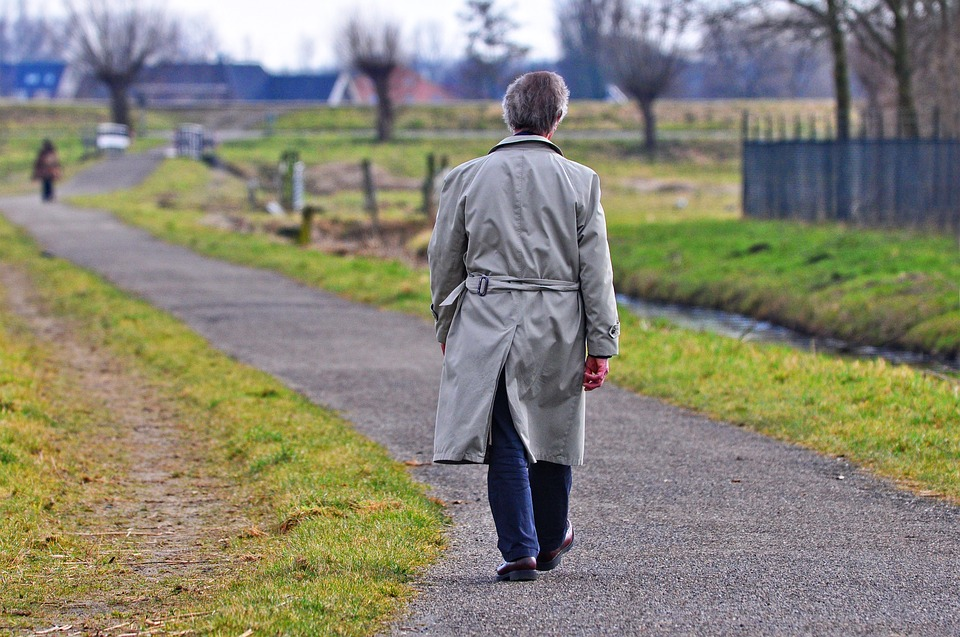NOTSAFE: (455, 67, 603, 323)
